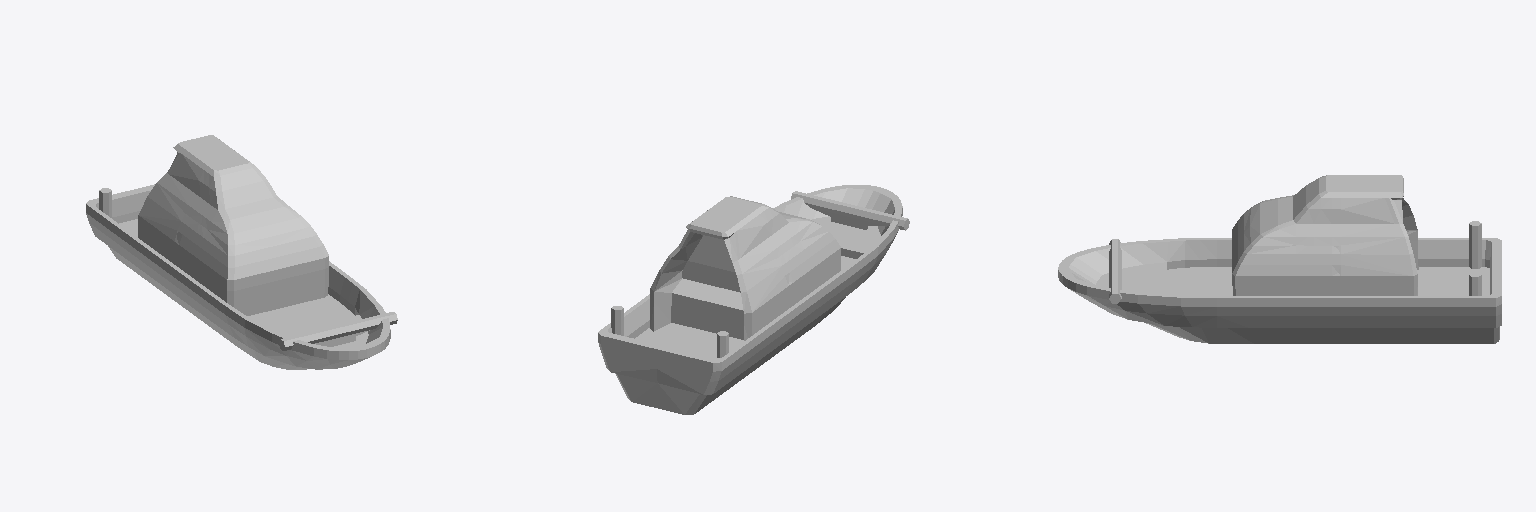
Rendered from Mr. Briney's Boat.obj.
The picture shows the model from 3 angles: view 1: azimuth 30°, elevation 25°; view 2: azimuth 150°, elevation 25°; view 3: azimuth 270°, elevation 25°; orthographic projection.
Parts seen in each view (by area): view 1: Mr._Briney's_Boat; view 2: Mr._Briney's_Boat; view 3: Mr._Briney's_Boat.
Boxes of the visible parts, <box> form: Mr._Briney's_Boat: <box>86,135,397,369</box>; Mr._Briney's_Boat: <box>598,185,909,414</box>; Mr._Briney's_Boat: <box>1058,175,1501,343</box>.
Size of the model in its own units: 0.5488 by 0.6118 by 1.7.